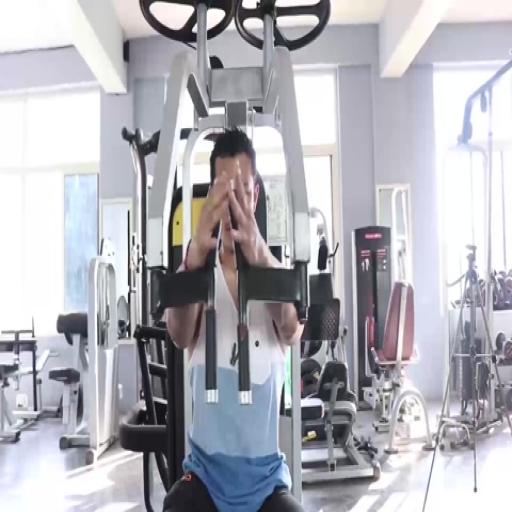exercise: (156, 125, 316, 511)
